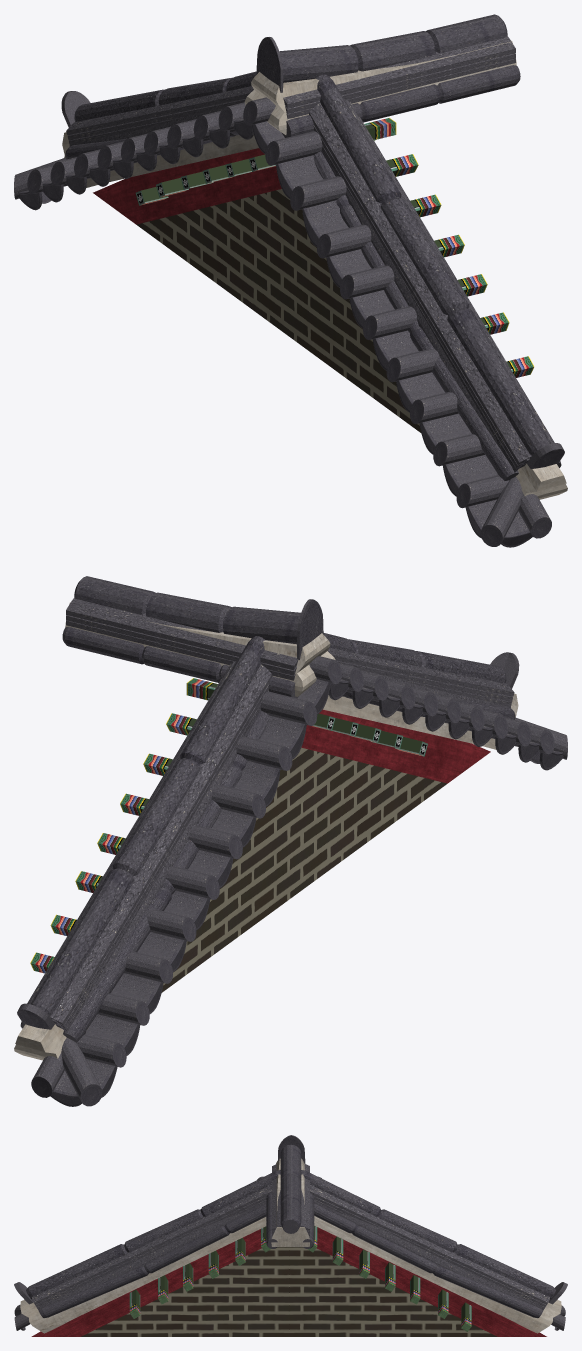
File: SM_R_RoofOuter_1.fbx
3 views of the same model, one above another, from view 1: azimuth 30°, elevation 25°; view 2: azimuth 150°, elevation 25°; view 3: azimuth 270°, elevation 25° (orthographic). The views are drawn at different scales.
Parts seen in each view (by area): view 1: SM_R_RoofOuter_1; view 2: SM_R_RoofOuter_1; view 3: SM_R_RoofOuter_1.
Boxes of the visible parts, <box> form: SM_R_RoofOuter_1: <box>14,14,567,547</box>; SM_R_RoofOuter_1: <box>14,576,567,1106</box>; SM_R_RoofOuter_1: <box>14,1135,567,1336</box>.
Bounding box in the file's own units: 188 × 621 × 238.
4 materials, 4 textured.
